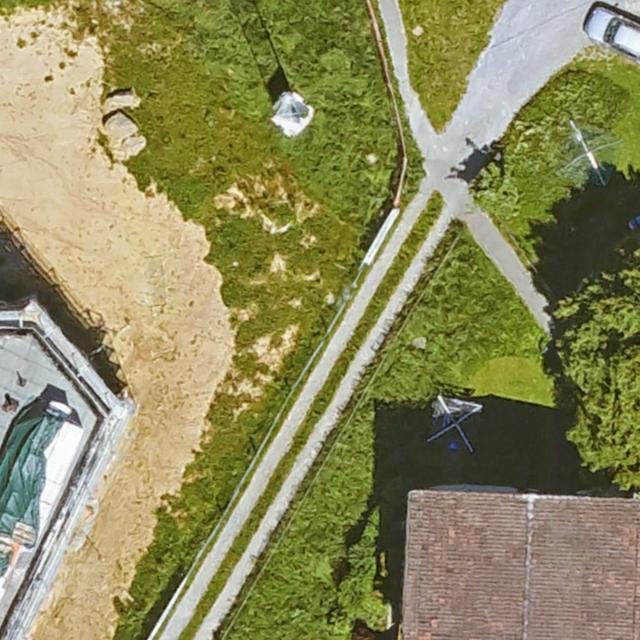tree: (562, 285, 640, 497)
